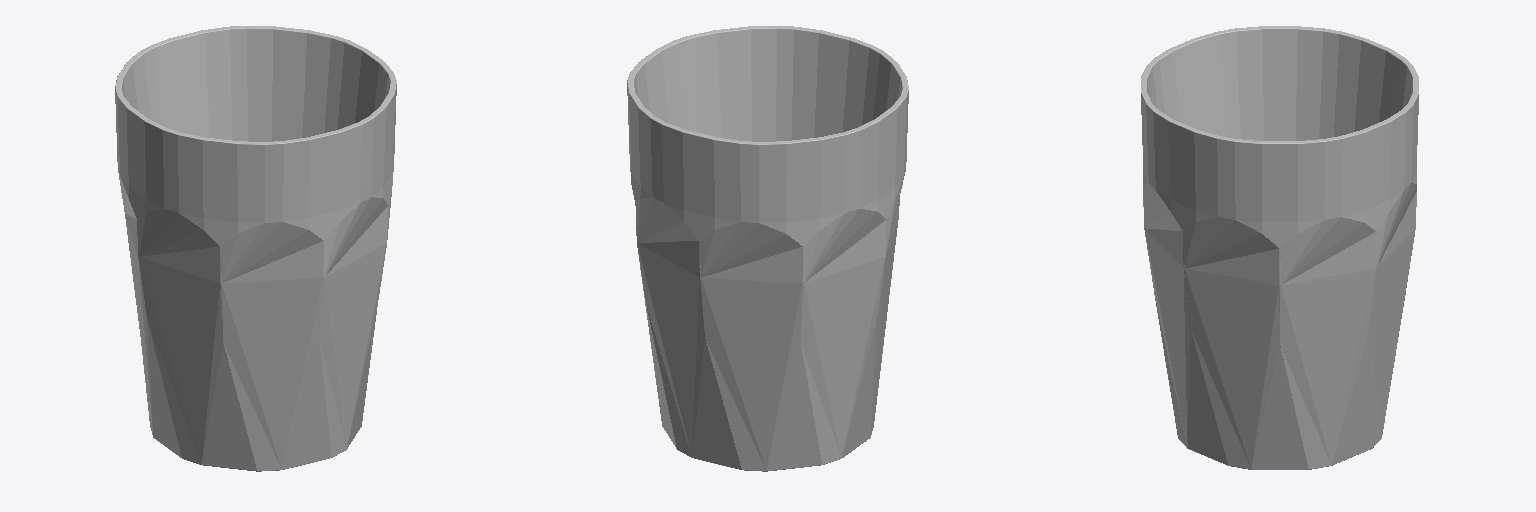
Rendered from lasi.obj.
3 renders of one model, left to right at view 1: azimuth 30°, elevation 25°; view 2: azimuth 150°, elevation 25°; view 3: azimuth 270°, elevation 25°, orthographic.
Parts seen in each view (by area): view 1: glass.001_Cylinder.002; view 2: glass.001_Cylinder.002; view 3: glass.001_Cylinder.002.
Part boxes in pixels (bbox=[...]): glass.001_Cylinder.002: bbox=[115, 26, 396, 471]; glass.001_Cylinder.002: bbox=[627, 26, 908, 471]; glass.001_Cylinder.002: bbox=[1141, 26, 1418, 469].
Bounding box in the file's own units: 0.0664 × 0.09 × 0.0664.